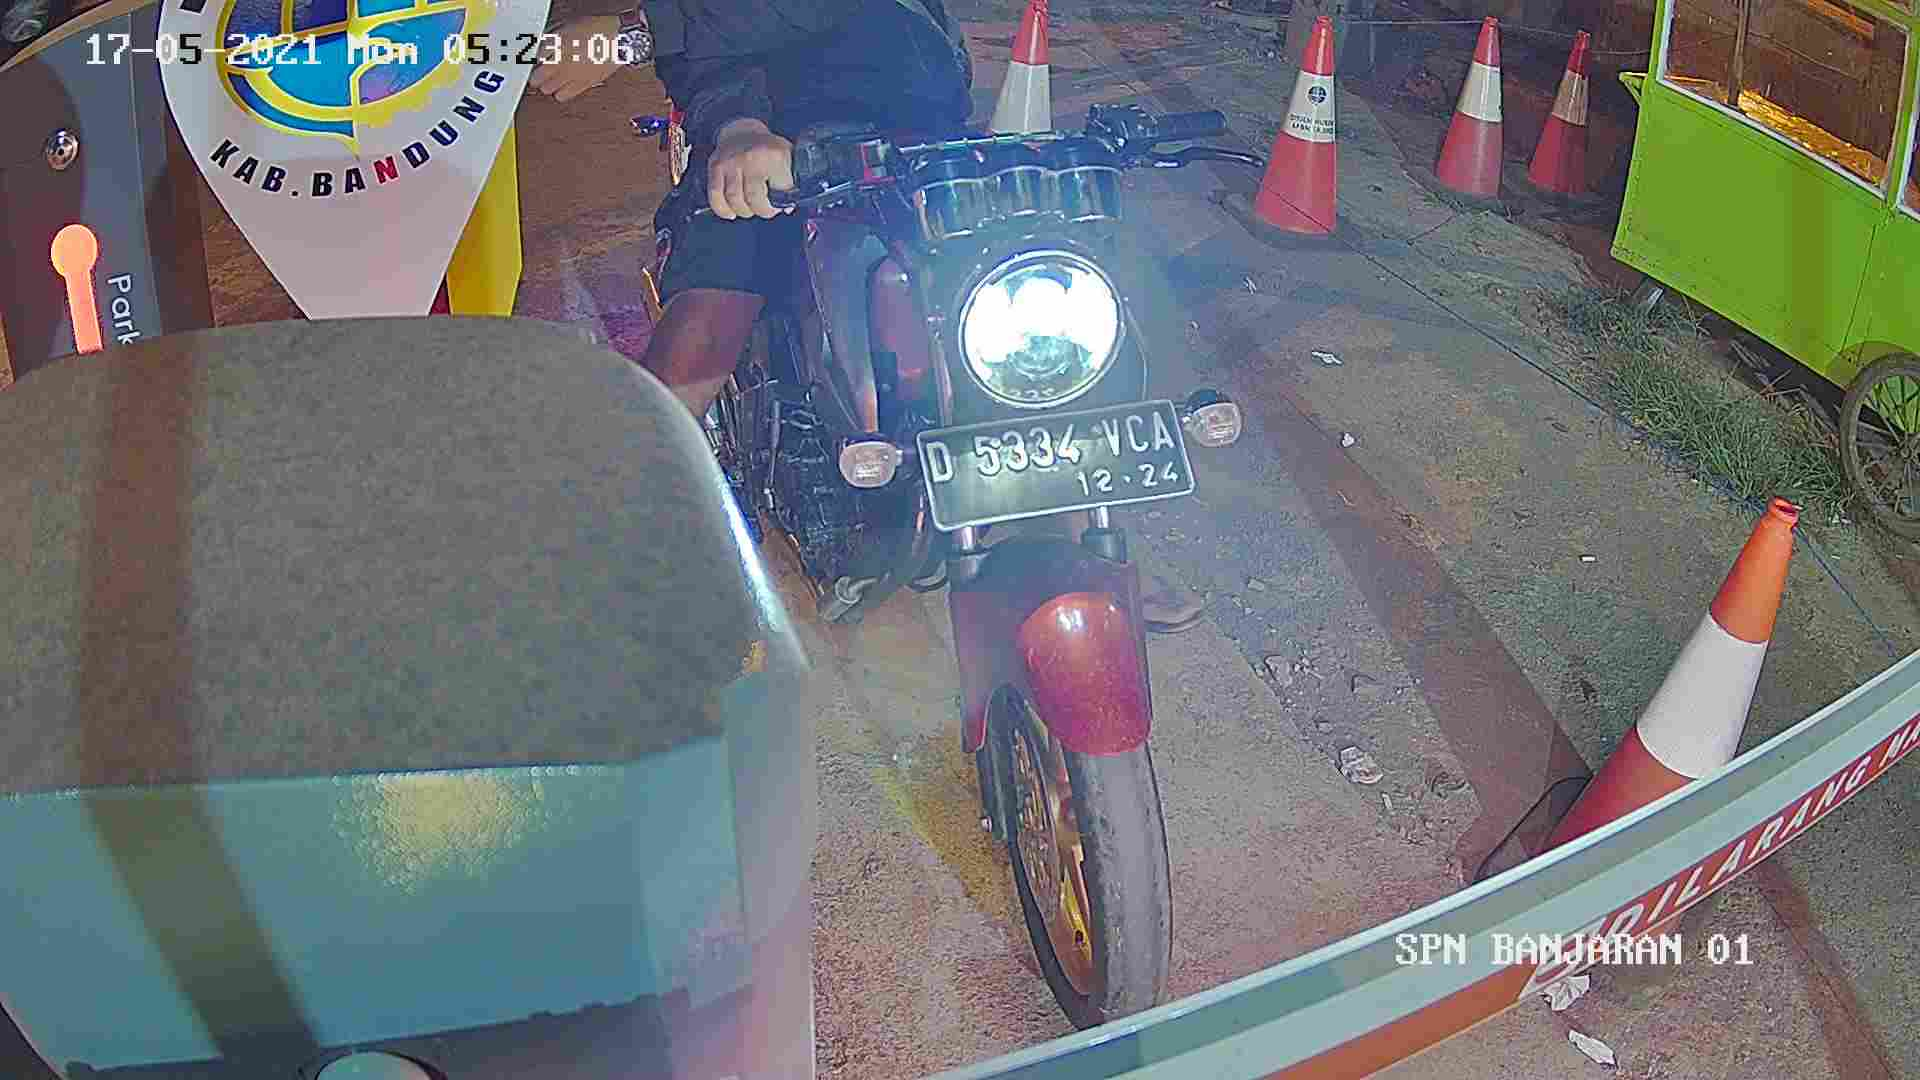motor: (727, 156, 1312, 1006)
